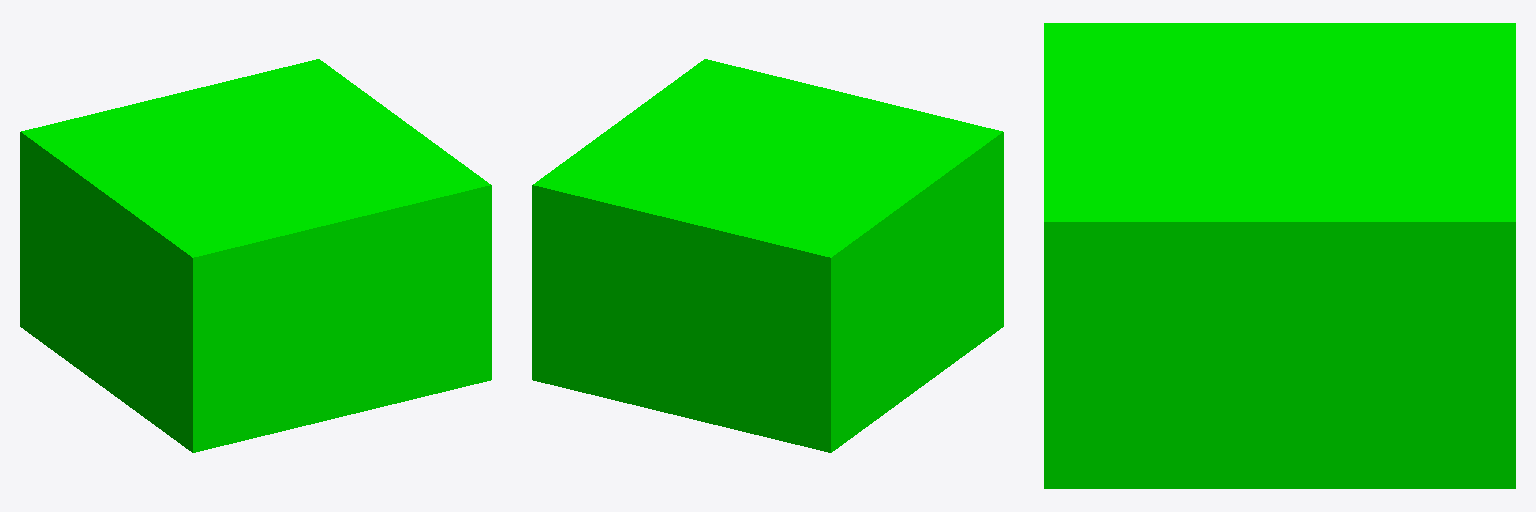
robot.urdf — medium_box:
<?xml version="1.0" ?>
<robot name="medium_box">
  <link name="base">
    <inertial>
      <mass value="0.1"/>
      <inertia ixx="0.00002" iyy="0.00002" izz="0.00002"/>
    </inertial>

    <visual>
      <geometry>
        <box size="0.04 0.04 0.025"/>
      </geometry>
      <material name="green">
        <color rgba="0 1 0 1"/>
      </material>
    </visual>

    <collision>
      <geometry>
        <box size="0.025 0.04 0.025"/>
      </geometry>
    </collision>
  </link>
</robot>

--- What the picture shows (computed from the rendered views, not written in the file) ---
The picture shows the robot from 3 angles, left to right: view 1: azimuth 30°, elevation 25°; view 2: azimuth 150°, elevation 25°; view 3: azimuth 270°, elevation 25°; orthographic projection.
Robot: medium_box — 1 links, 0 joints (none); root link base; default pose: every joint at zero.
Visible links, largest first — view 1: base; view 2: base; view 3: base.
Boxes of the visible links, <box> form: base: <box>20,59,491,452</box>; base: <box>532,59,1003,452</box>; base: <box>1044,23,1515,488</box>.
Bounding box of the posed robot: 0.04 × 0.04 × 0.025 m (x, y, z).
Geometry: primitives only (box / cylinder / sphere), no mesh files.